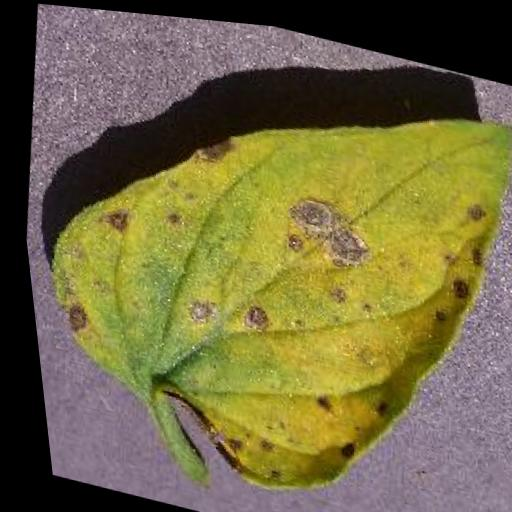Septoria: (1, 8, 512, 512)
